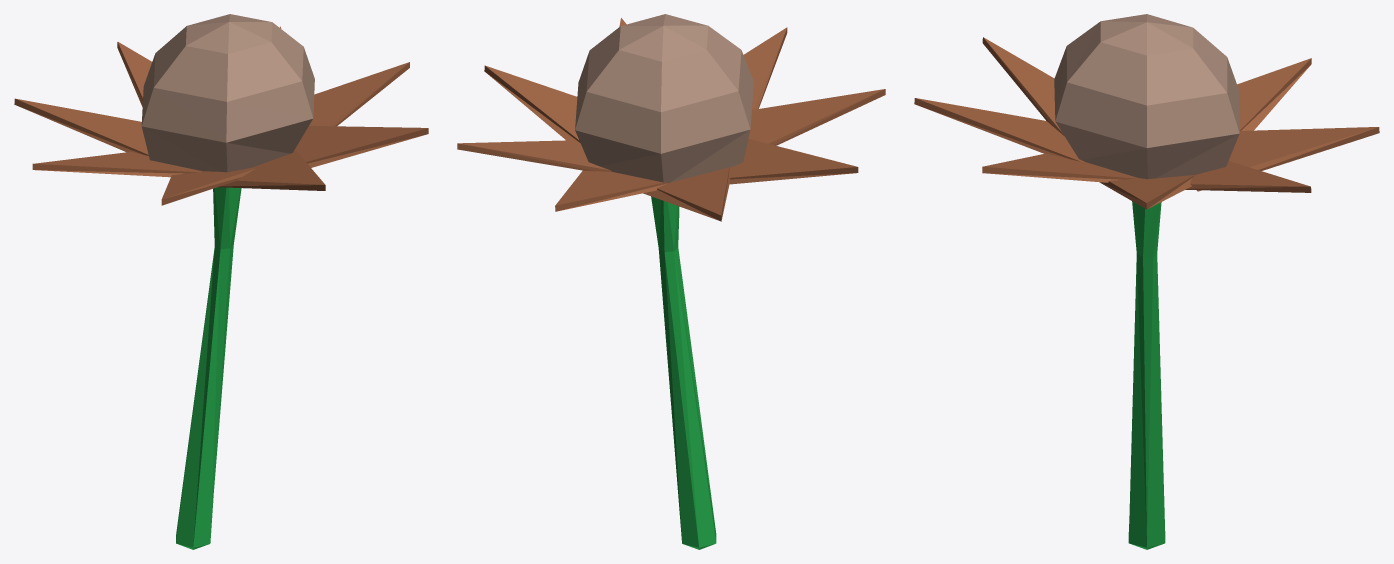
Rendered from flower_3.OBJ.
3 renders of one model, left to right at view 1: azimuth 30°, elevation 25°; view 2: azimuth 150°, elevation 25°; view 3: azimuth 270°, elevation 25°, orthographic. The views are drawn at different scales.
Visible parts, largest first — view 1: flower_3; view 2: flower_3; view 3: flower_3.
Part boxes in pixels (box(x1,y1,x2,y2)): flower_3: box(14, 14, 428, 549); flower_3: box(457, 14, 885, 549); flower_3: box(914, 14, 1379, 549).
Size of the model in its own units: 4.92 by 6.48 by 5.
Materials: 1 (1 with a texture image).
